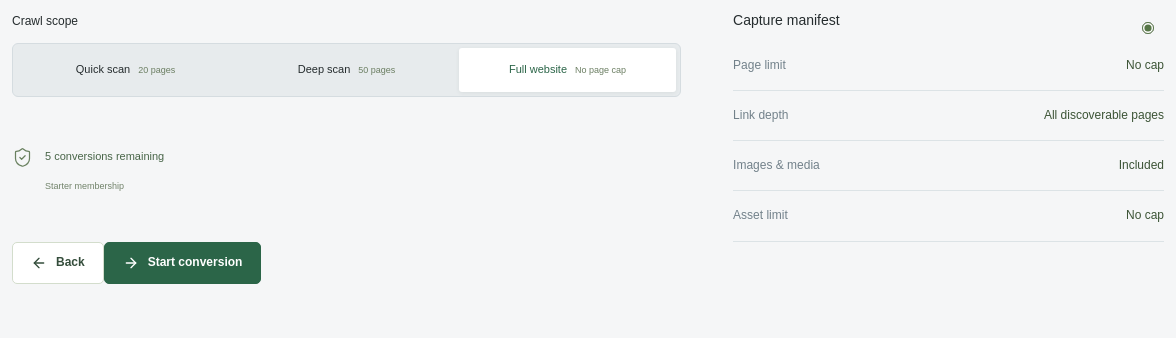
Scenario: Converter source and capture settings › leaves a failed job request visible and retryable
Click the button "Start conversion" at (183, 262), box x1=104 y1=242 x2=261 y2=284
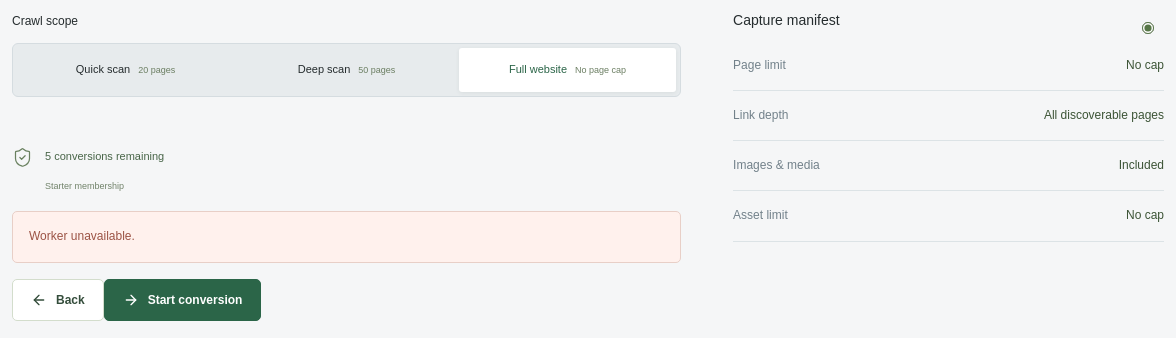
Check: the button "Start conversion" is enabled, box x1=104 y1=279 x2=261 y2=321
Check: the message shows "Worker unavailable", box x1=29 y1=229 x2=135 y2=243
